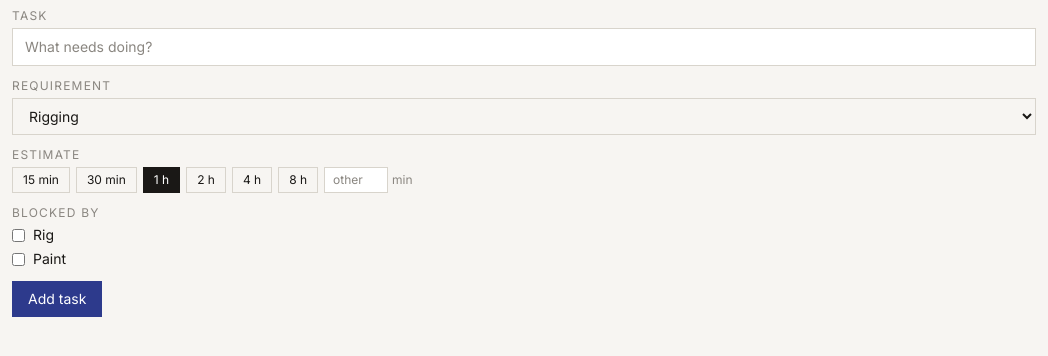
Test: TaskForm › asks for a title
Click the button "Add task". click: (57, 299)
box: [12, 281, 102, 317]
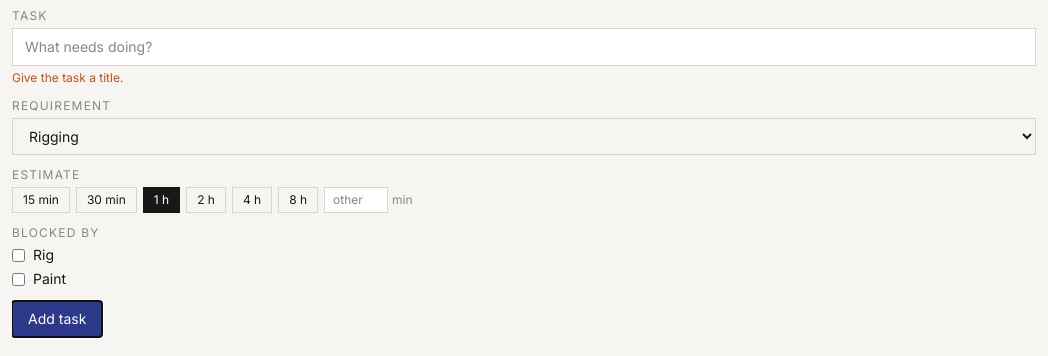
Check: the text "Give the task a title." is shown, box [12, 70, 123, 85]
